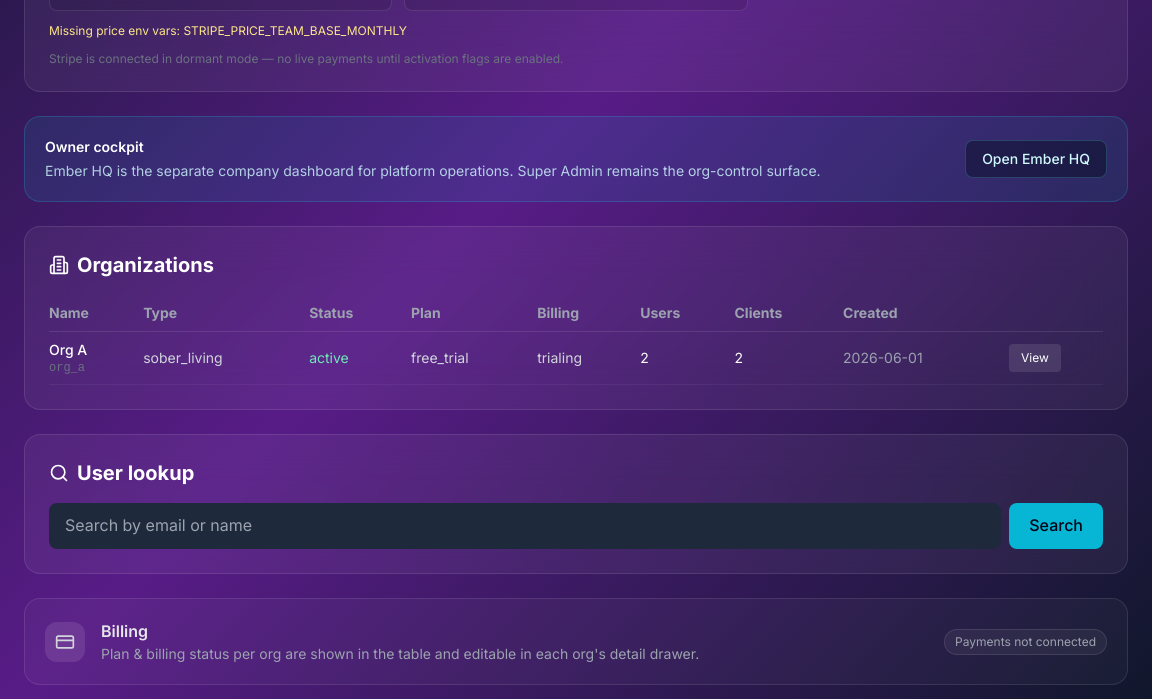
Test case: Super Admin panel › opens org detail with counts and staff metadata
The image size is (1152, 699).
(page scrolled)
Click the button "View" at (1035, 358), box [1009,344,1061,372]
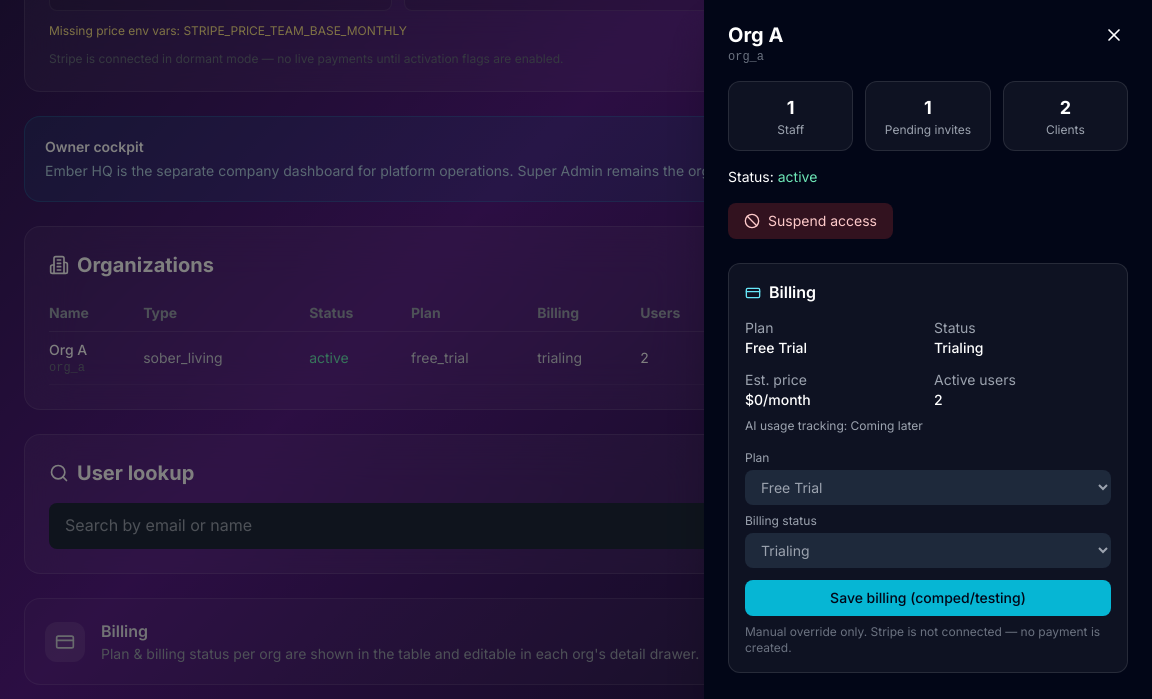
Expected: the text "Pending invites" is shown, [878,122,978,138]
